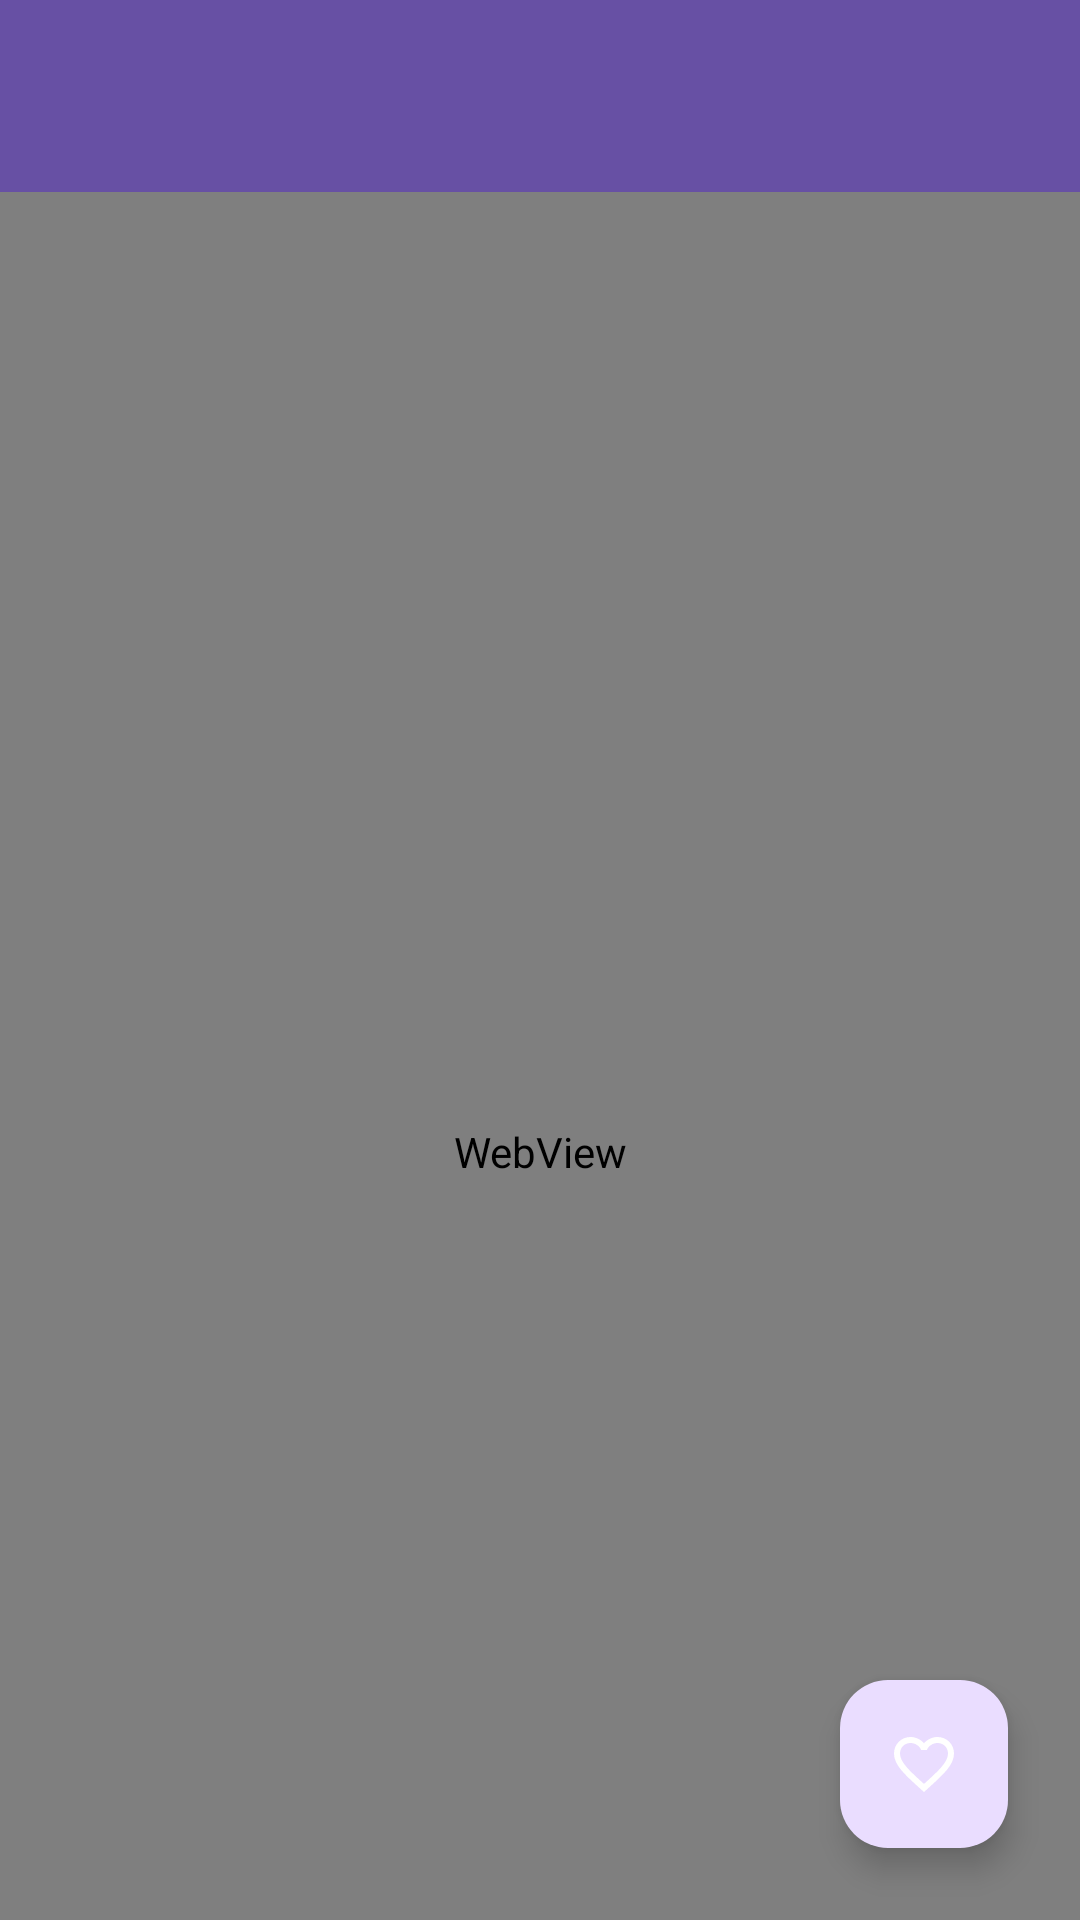

Icons on this 1080*1920 Android screen, each with its box as (x1, y1, x2, y2):
favorite dynamic: (840, 1680, 1008, 1848)
